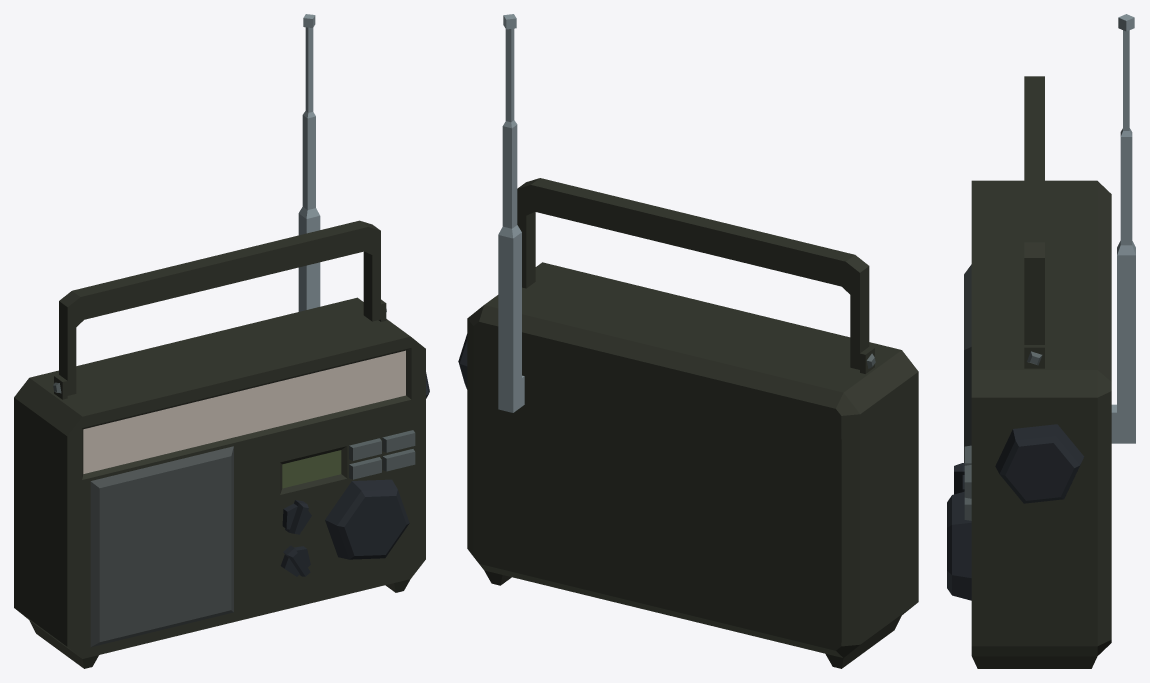
File: SM_Radio.fbx
The picture shows the model from 3 angles, left to right: view 1: azimuth 30°, elevation 25°; view 2: azimuth 150°, elevation 25°; view 3: azimuth 270°, elevation 25°; orthographic projection. The views are drawn at different scales.
Parts seen in each view (by area): view 1: SM_Radio, SM_Radio_Handle, SM_Radio_Antenna; view 2: SM_Radio, SM_Radio_Handle, SM_Radio_Antenna; view 3: SM_Radio, SM_Radio_Antenna, SM_Radio_Handle.
Boxes of the visible parts, x1,y1,x2,y2 form: SM_Radio: [14, 297, 429, 668]; SM_Radio_Handle: [59, 220, 380, 395]; SM_Radio_Antenna: [298, 14, 320, 311]; SM_Radio: [458, 262, 918, 668]; SM_Radio_Handle: [517, 178, 869, 369]; SM_Radio_Antenna: [498, 14, 524, 412]; SM_Radio: [947, 180, 1111, 668]; SM_Radio_Antenna: [1111, 14, 1135, 443]; SM_Radio_Handle: [1024, 76, 1044, 344].
Size of the model in its own units: 40.44 by 54.96 by 14.84.
